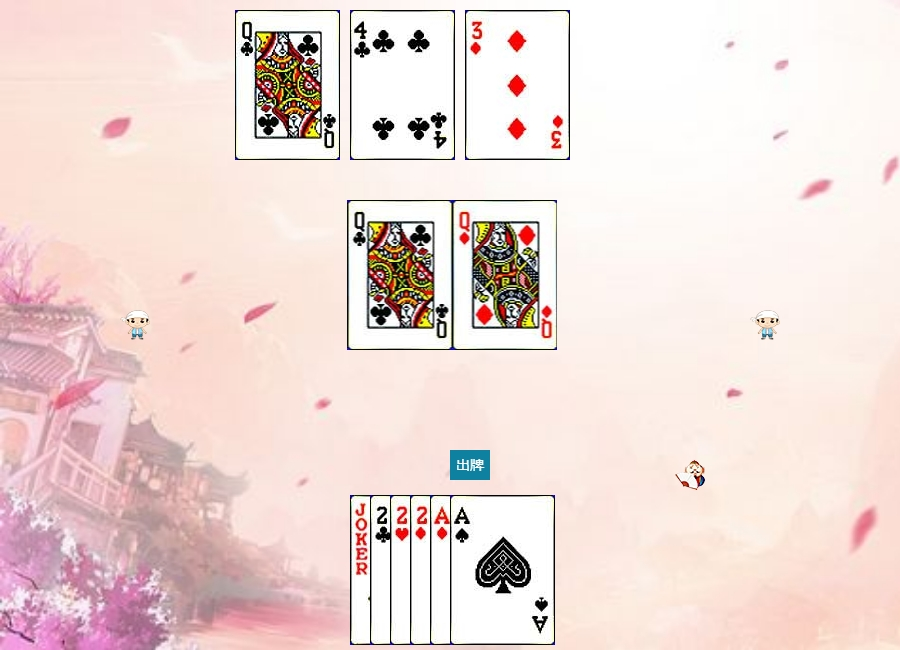12~1: (453, 200, 558, 350)
12~2: (235, 10, 340, 160), (348, 200, 453, 350)
14~1: (430, 495, 535, 645)
14~4: (450, 495, 555, 645)
15~1: (410, 495, 515, 645)
15~2: (370, 495, 475, 645)
15~3: (390, 495, 495, 645)
18~4: (350, 495, 455, 645)
3~1: (465, 10, 570, 160)
4~2: (350, 10, 455, 160)
